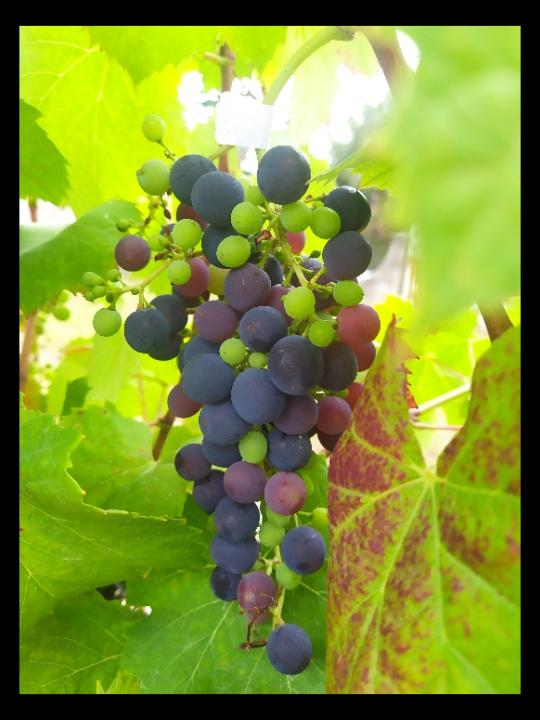grape: (79, 111, 380, 680)
